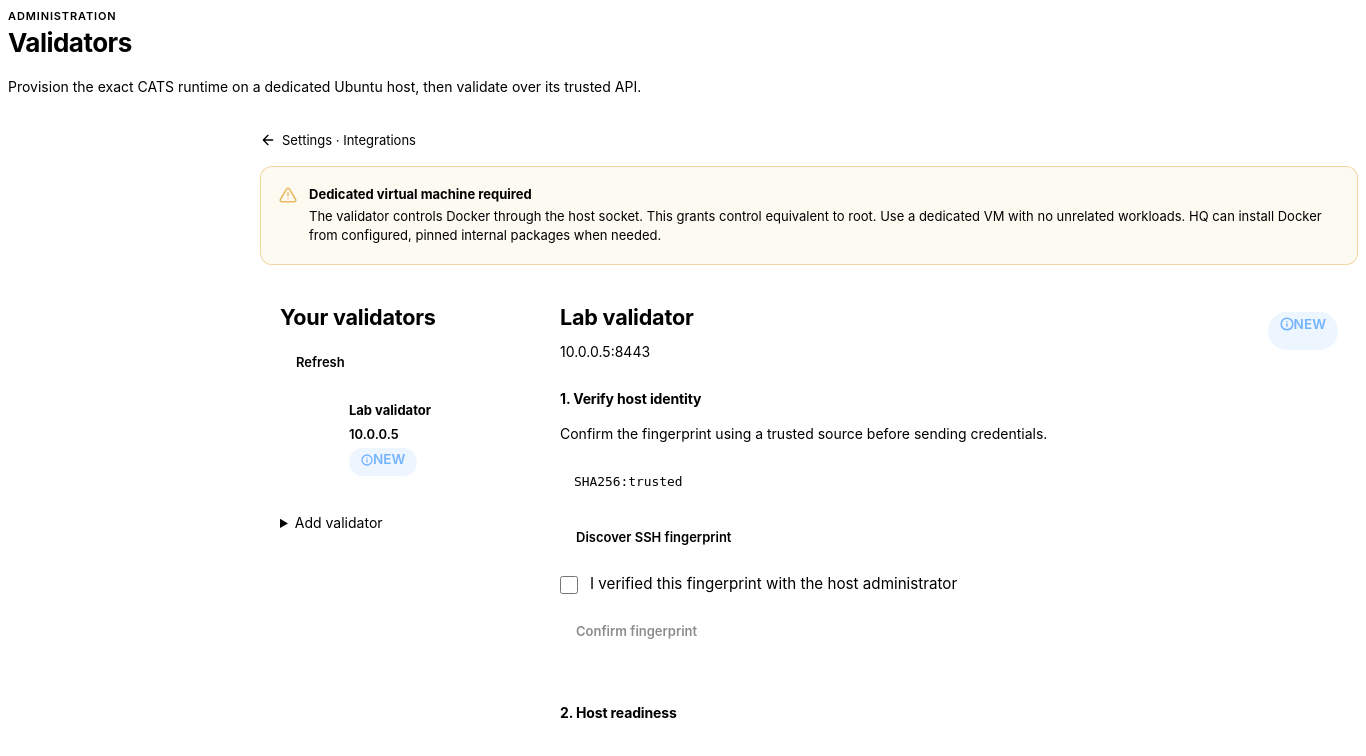
Scenario: managed validators › requires explicit fingerprint confirmation before preflight
expect the button "Confirm fingerprint" is disabled: met, box x1=560 y1=614 x2=713 y2=650
Click the checkbox labelled "I verified this fingerprint with the host administrator": (569, 585) x1=560 y1=576 x2=578 y2=594
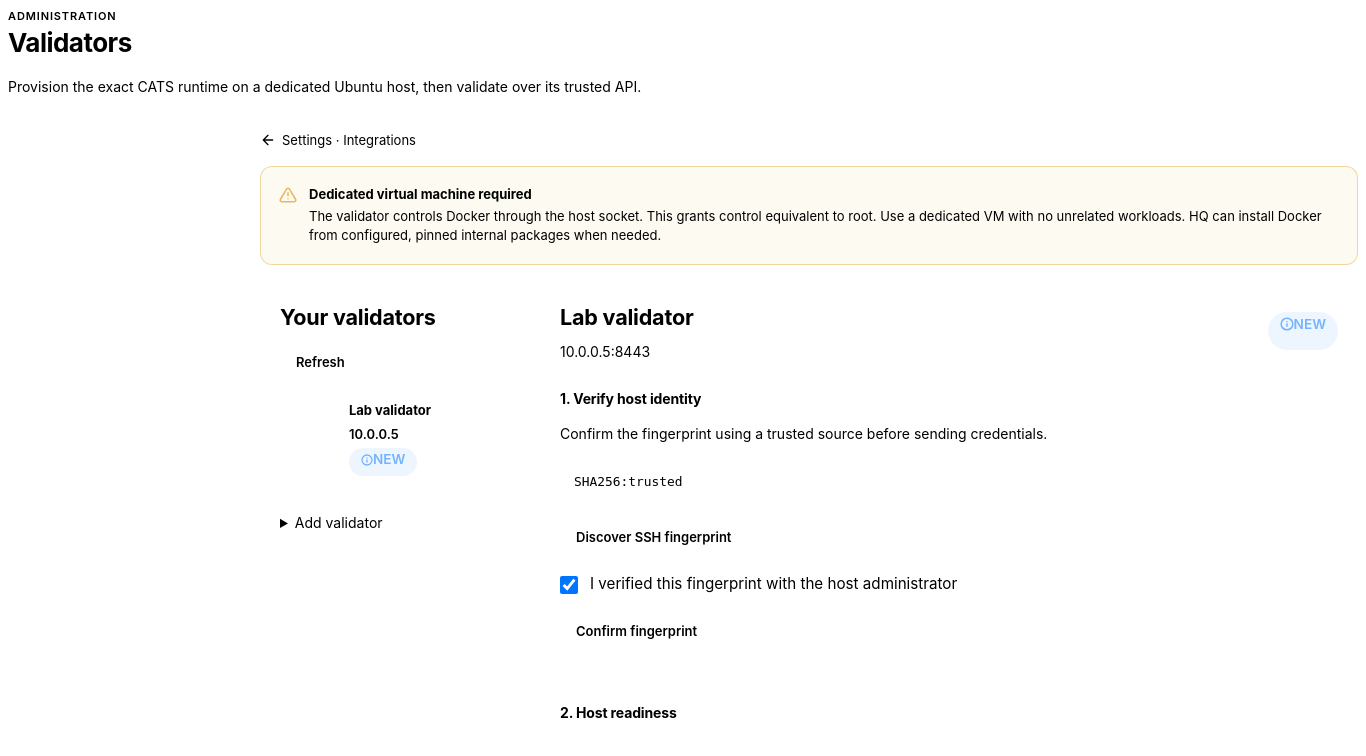
expect the button "Confirm fingerprint" is enabled: met, box x1=560 y1=614 x2=713 y2=650
